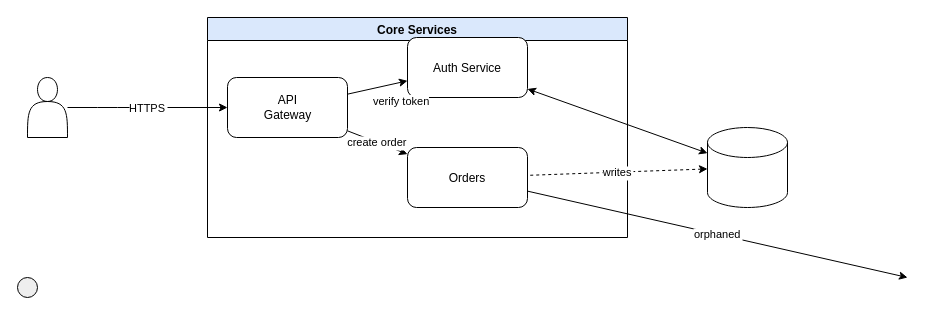
This 933x315 diagram has some shape labels left out. Each missing label, with the box of its shape:
Client: (26, 76, 68, 138)
Postgres: (706, 126, 788, 208)
